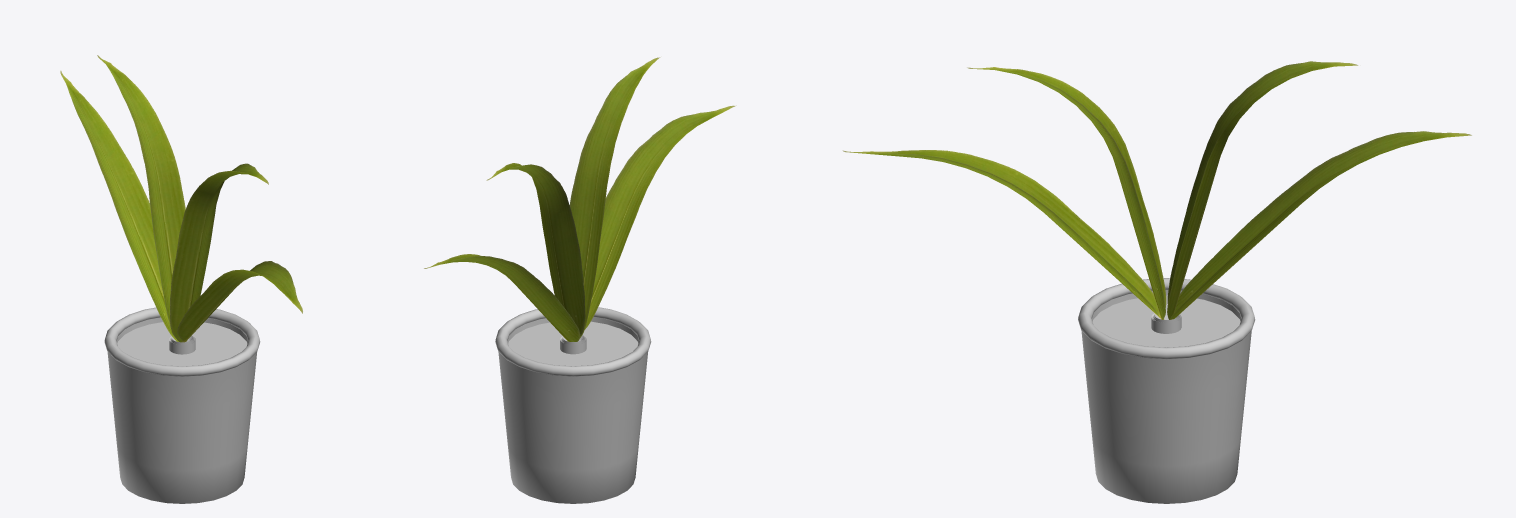
Rendered from Wk8_Plant_Castillo.fbx.
3 renders of one model, left to right at view 1: azimuth 30°, elevation 25°; view 2: azimuth 150°, elevation 25°; view 3: azimuth 270°, elevation 25°, orthographic. The views are drawn at different scales.
Parts seen in each view (by area): view 1: revolvedSurface1, pPlane2, pPlane1, pPlane3, pDisc1, pPlane4; view 2: revolvedSurface1, pPlane3, pPlane4, pPlane2, pDisc1, pPlane1; view 3: revolvedSurface1, pPlane1, pPlane4, pPlane2, pPlane3, pDisc1.
Boxes of the visible parts, x1,y1,x2,y2 form: revolvedSurface1: (104,307,260,503); pPlane2: (97,55,185,341); pPlane1: (60,70,178,341); pPlane3: (170,163,268,342); pDisc1: (117,322,247,366); pPlane4: (177,261,302,342); revolvedSurface1: (495,307,651,503); pPlane3: (569,57,660,337); pPlane4: (584,105,736,329); pPlane2: (486,163,585,335); pDisc1: (508,321,638,366); pPlane1: (424,254,580,341); revolvedSurface1: (1078,278,1255,503); pPlane1: (1169,131,1471,319); pPlane4: (842,150,1164,319); pPlane2: (1167,61,1358,319); pPlane3: (967,67,1166,319); pDisc1: (1092,295,1240,347).
Bounding box in the file's own units: 11.69 × 31.92 × 45.43.
